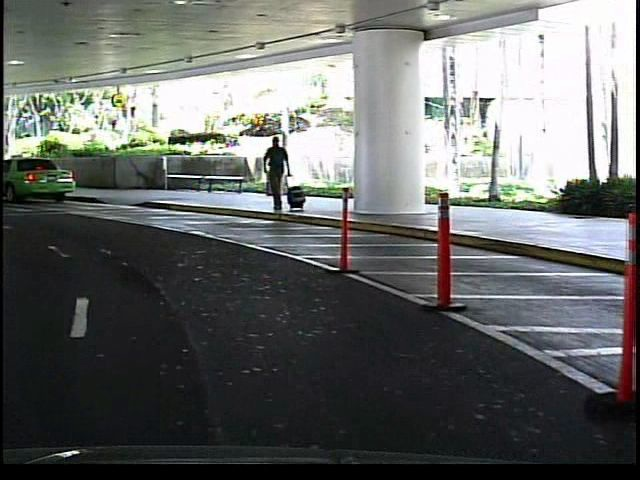person: (262, 130, 298, 216)
